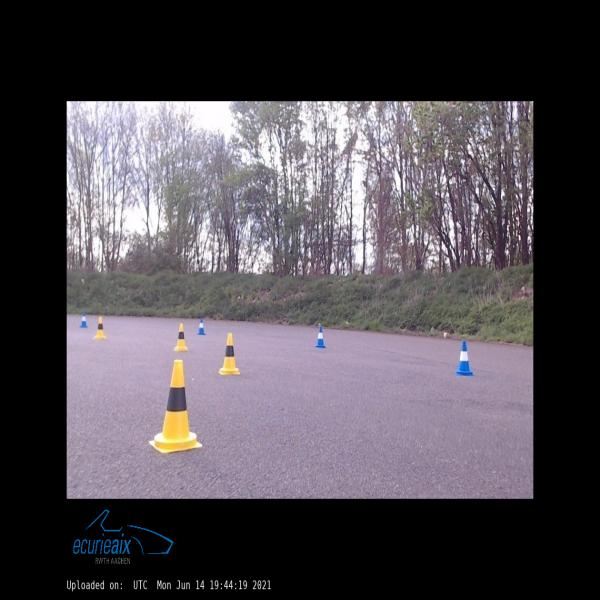blue_cone: (456, 341, 473, 375), (315, 326, 326, 348), (196, 317, 206, 335), (80, 311, 88, 327)
yellow_cone: (149, 360, 202, 453), (219, 334, 240, 374), (174, 323, 189, 351), (94, 317, 106, 339)
